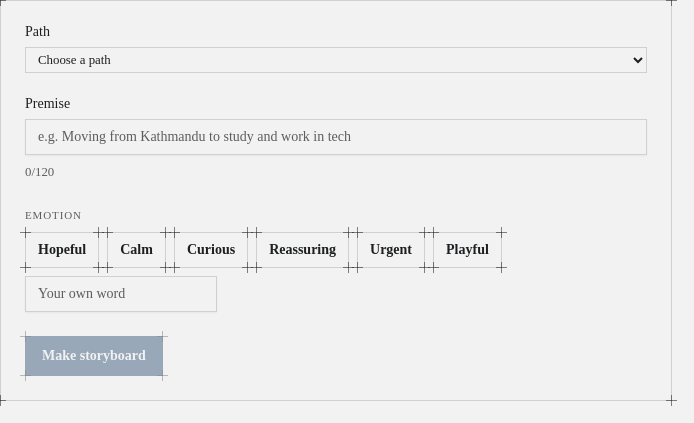
Scenario: NewComicForm › keeps "Make storyboard" unavailable until a path is chosen
Check: the button "Make storyboard" is disabled, box left=25, top=336, right=163, bottom=376
Select "Hobart · Bachelor of Nursing, UTAS" in the dropdown labelled "Path" at [336, 60], box left=25, top=47, right=647, bottom=73
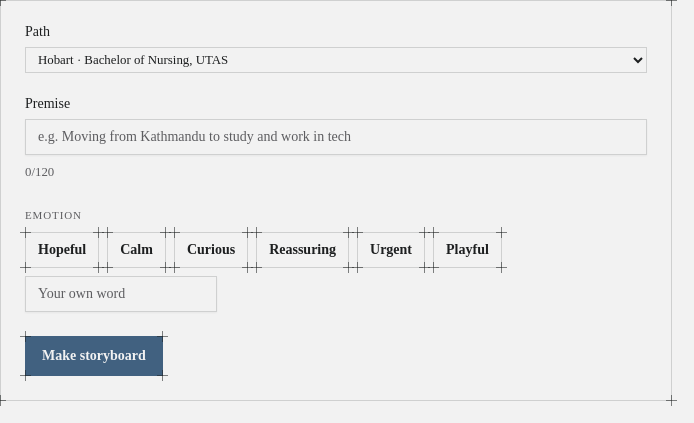
Check: the button "Make storyboard" is enabled, box left=25, top=336, right=163, bottom=376
